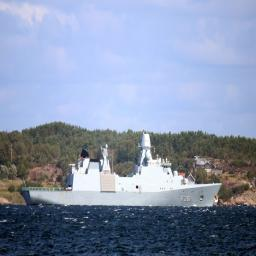Fragata: (22, 123, 224, 213)
